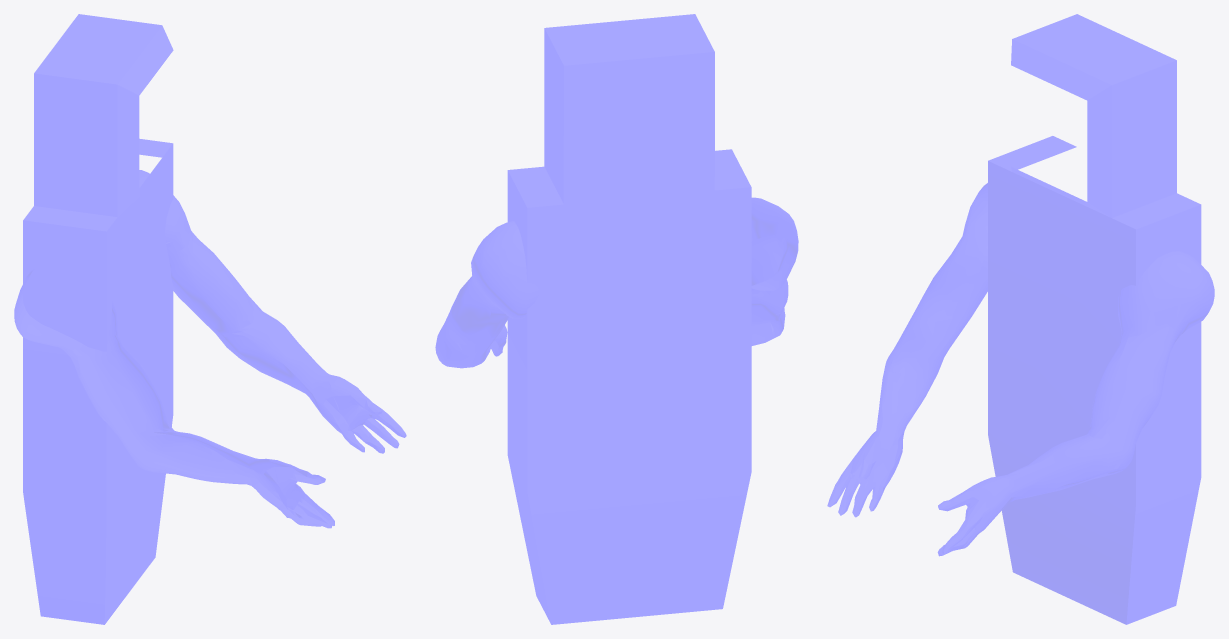
File: avatar.glb
3 views of the same model, side by side, from view 1: azimuth 30°, elevation 25°; view 2: azimuth 150°, elevation 25°; view 3: azimuth 270°, elevation 25° (orthographic). The views are drawn at different scales.
Visible parts, largest first — view 1: avatar:Mesh; view 2: avatar:Mesh; view 3: avatar:Mesh.
Boxes of the visible parts, x1,y1,x2,y2 form: avatar:Mesh: (14,14,406,624); avatar:Mesh: (435,14,798,624); avatar:Mesh: (827,14,1214,624).
Bounding box in the file's own units: 0.0401 × 0.0587 × 0.0382.
